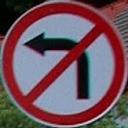NoVirarEsquerda: (2, 0, 126, 126)
